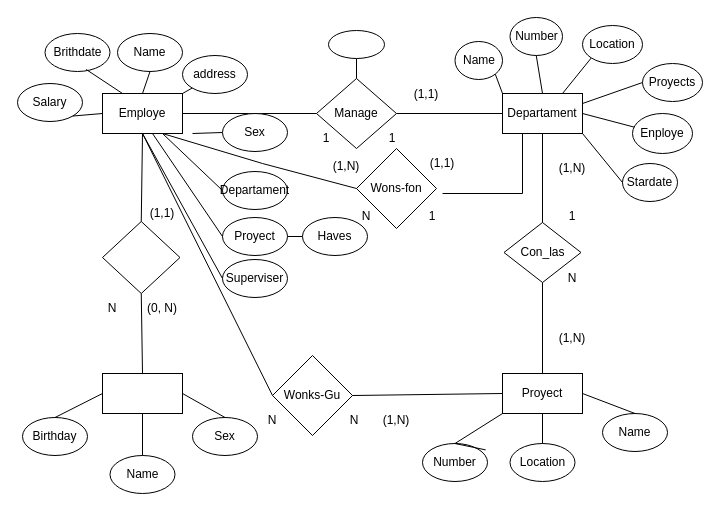
Some shapes in this 720 by 511 pixel diagram are drawn without their labels. Here are the shapes that lost their labels. From the top down, the centre of each, then its label:
point 356,44: Starday
point 141,257: Depende -- ok
point 142,393: Depende
